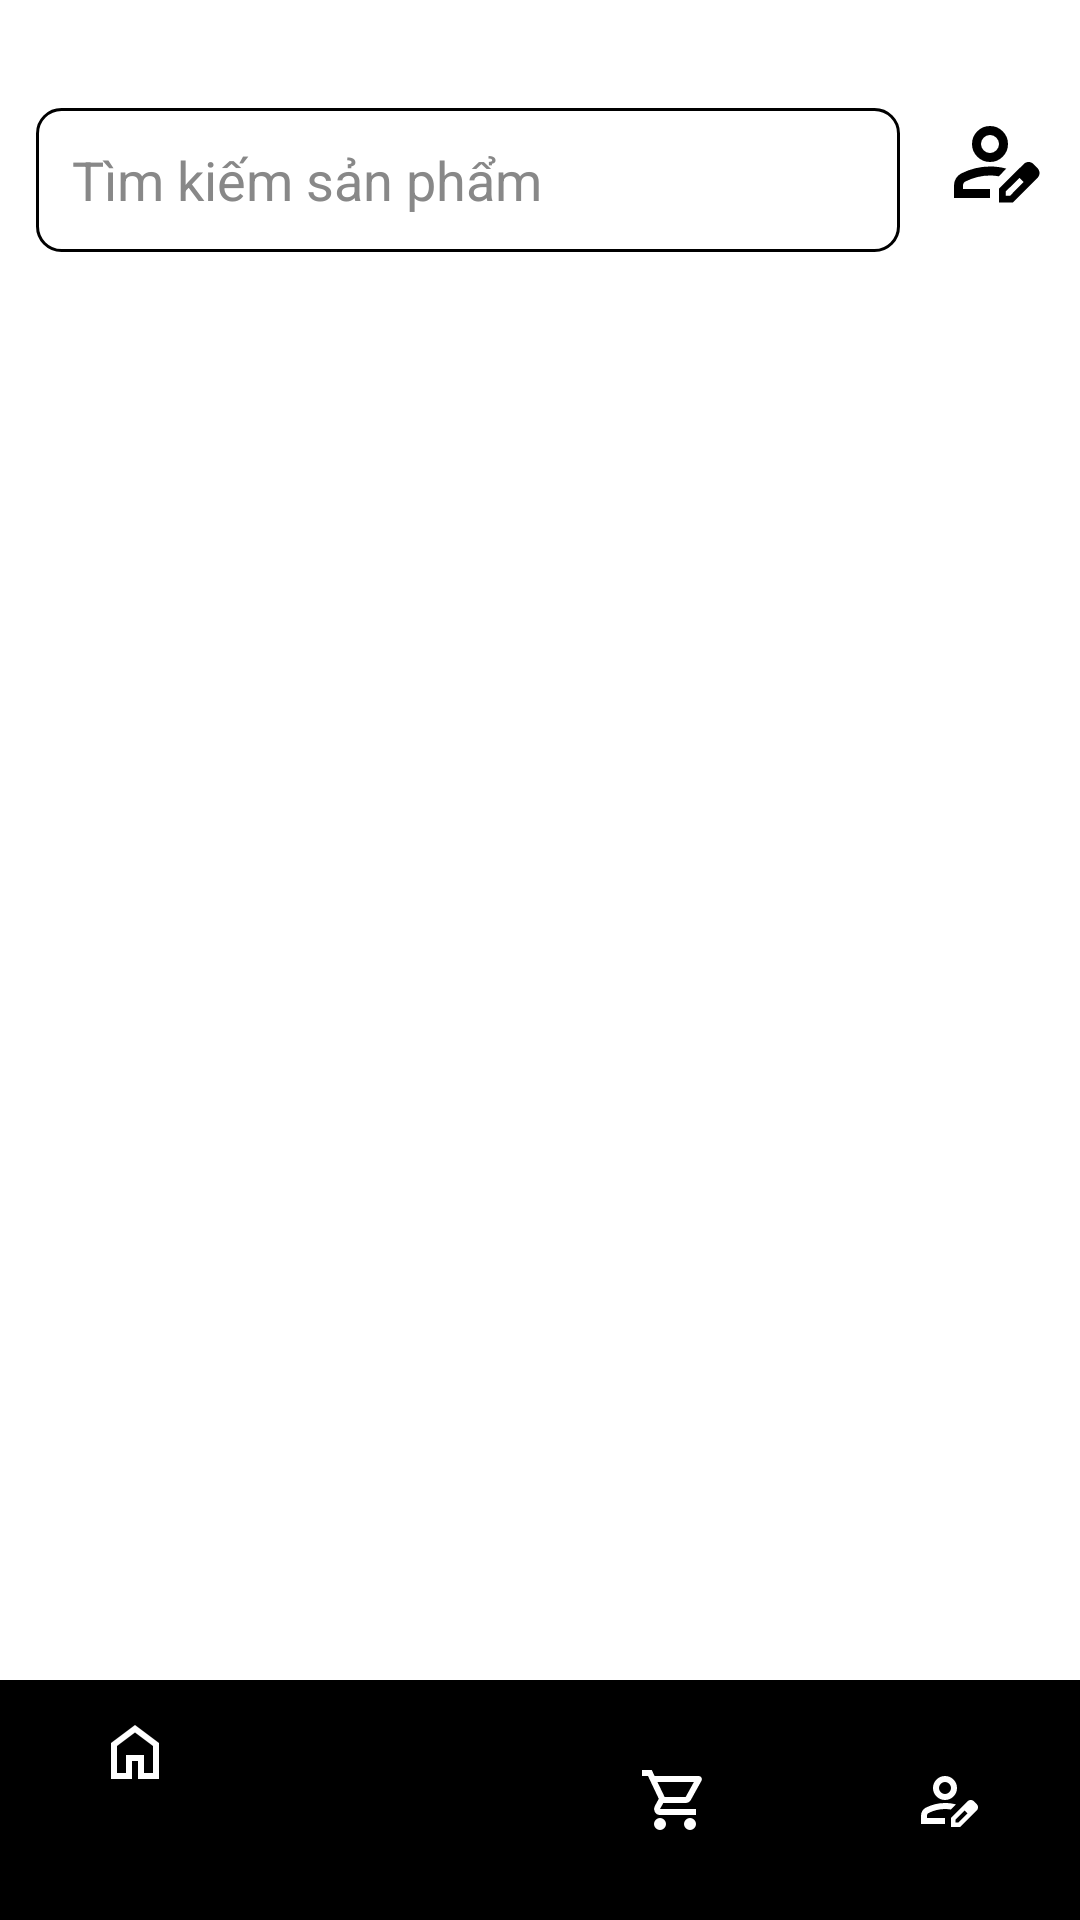

Named icons in this screenshot (1080 x 1920) and their centers, (x=x, y=y):
Profile: (x=997, y=164)
